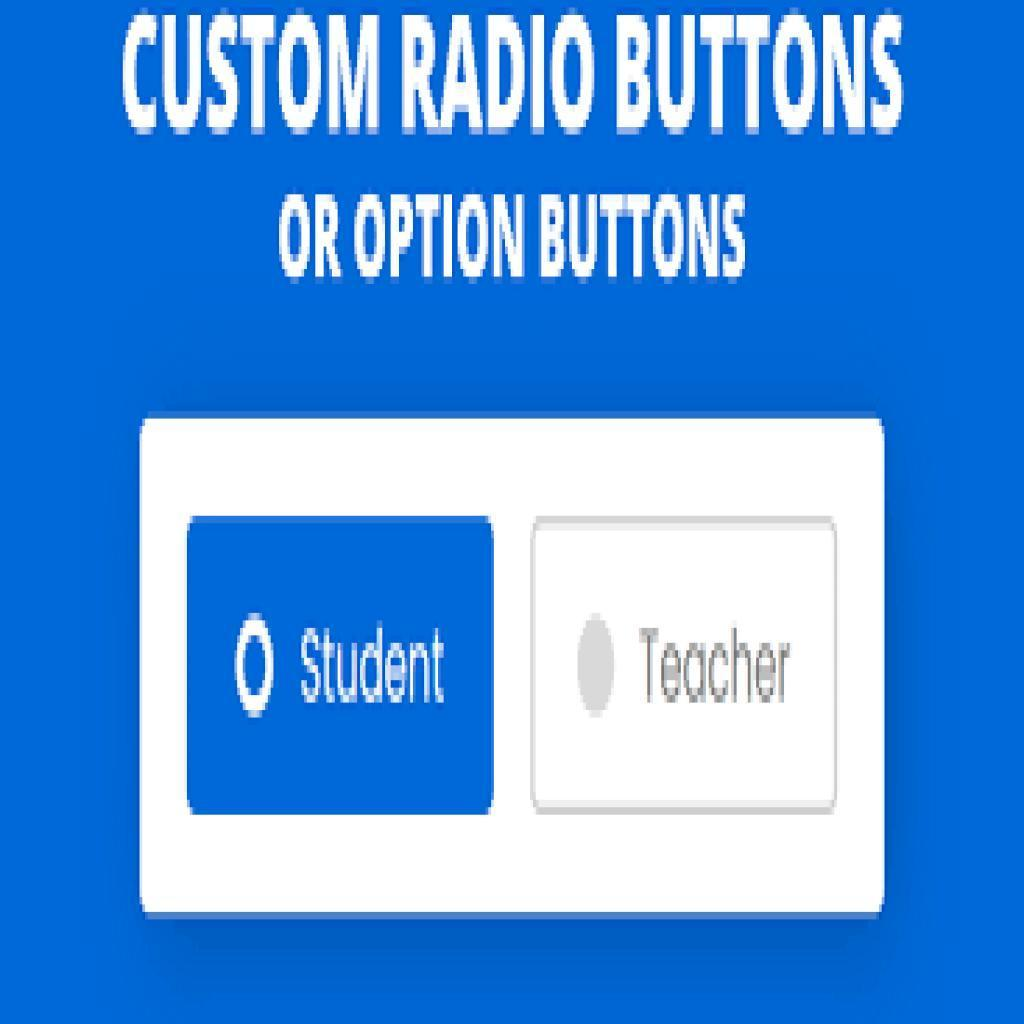radio: (574, 611, 619, 719), (232, 615, 277, 716)
